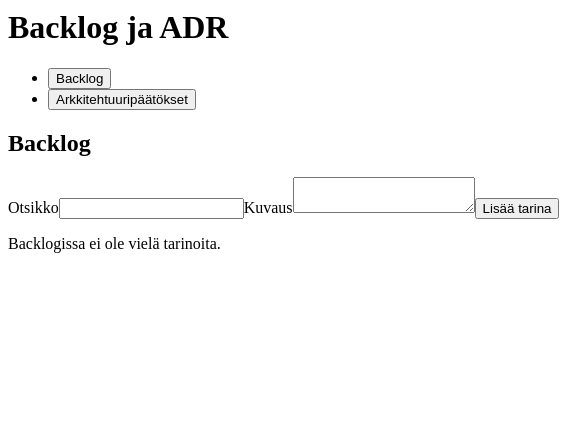
Test: App › vaihtaa navigaatiosta arkkitehtuuripäätöksiin ja takaisin
Click the button "Arkkitehtuuripäätökset" at (122, 99), box 48,89 -> 196,110
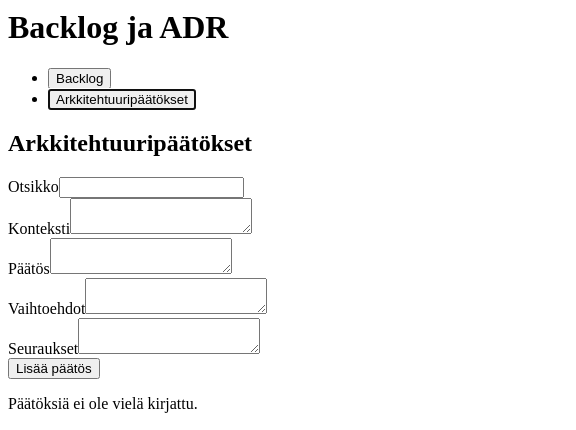
Expected: the heading "Arkkitehtuuripäätökset" is shown, 8,130 -> 252,156
Click the button "Backlog" at (80, 78), box 48,68 -> 111,89
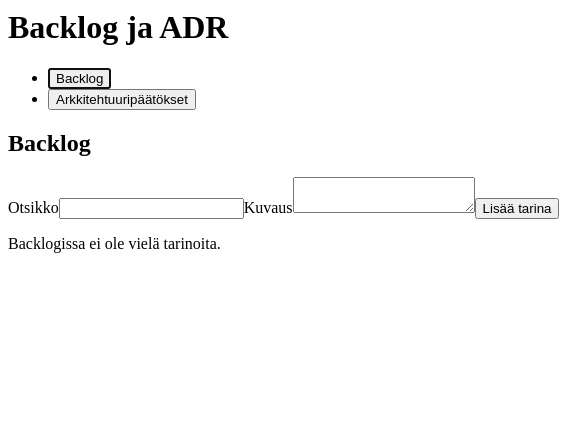
Expected: the heading "Backlog" is shown, 8,130 -> 91,156
